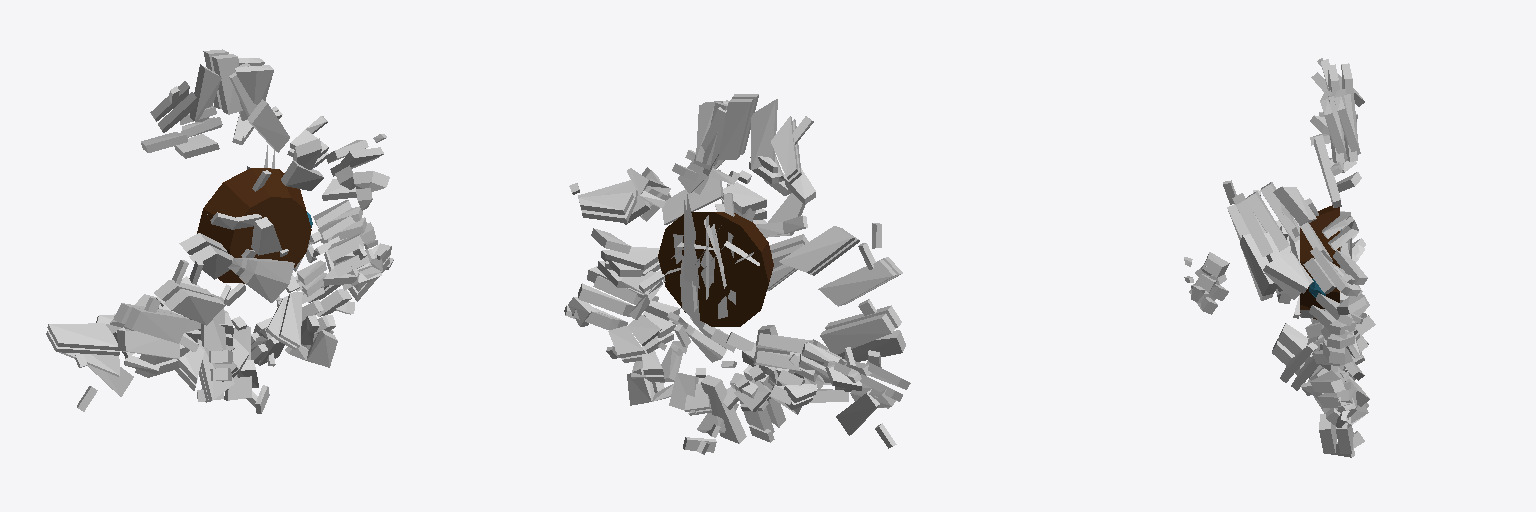
3 renders of one model, left to right at view 1: azimuth 30°, elevation 25°; view 2: azimuth 150°, elevation 25°; view 3: azimuth 270°, elevation 25°, orthographic.
Visible parts, largest first — view 1: Cone_Cone_cover, Cone.001_Cone.001_cover, Cylinder_Cylinder_Material.001; view 2: Cone_Cone_cover, Cone.001_Cone.001_cover, Cylinder_Cylinder_Material.001, Plane_Plane_Material.003; view 3: Cone_Cone_cover, Cone.001_Cone.001_cover, Cylinder_Cylinder_Material.001.
Boxes of the visible parts, x1=… form: Cone_Cone_cover: x1=110, y1=138, x2=393, y2=413; Cone.001_Cone.001_cover: x1=46, y1=49, x2=386, y2=411; Cylinder_Cylinder_Material.001: x1=197, y1=168, x2=311, y2=283; Cone_Cone_cover: x1=564, y1=167, x2=905, y2=454; Cone.001_Cone.001_cover: x1=569, y1=94, x2=910, y2=448; Cylinder_Cylinder_Material.001: x1=658, y1=212, x2=773, y2=326; Plane_Plane_Material.003: x1=665, y1=194, x2=759, y2=329; Cone_Cone_cover: x1=1184, y1=182, x2=1375, y2=457; Cone.001_Cone.001_cover: x1=1191, y1=58, x2=1368, y2=407; Cylinder_Cylinder_Material.001: x1=1300, y1=205, x2=1339, y2=319.
Bounding box in the file's own units: 3.42 × 3.53 × 1.67.
Materials: 4 (1 with a texture image).